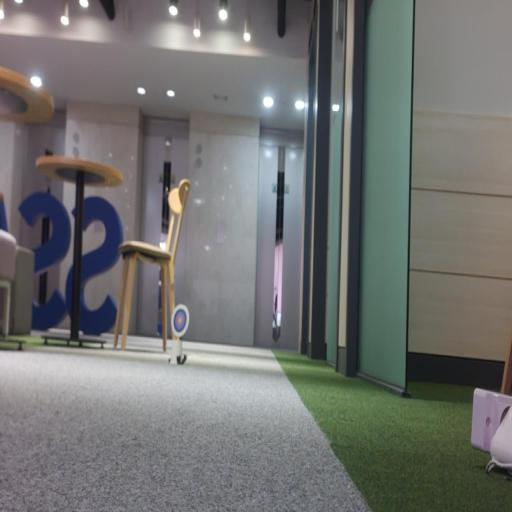target: (171, 304, 189, 338)
